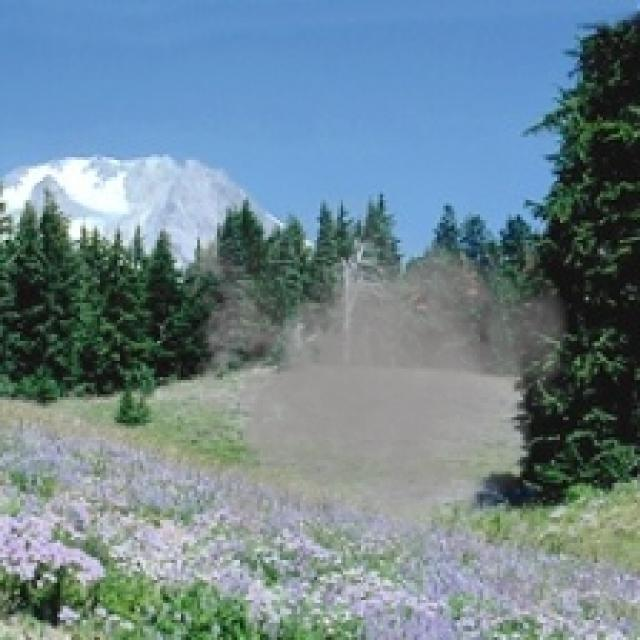Smoke: (175, 177, 574, 592)
